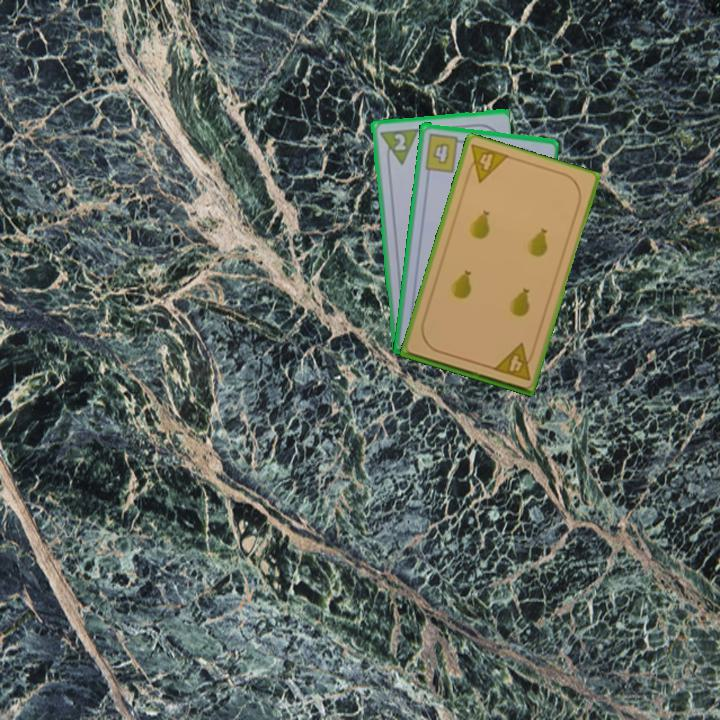2p: (390, 129, 409, 153)
4b: (421, 129, 467, 174)
4p: (461, 141, 511, 186), (489, 340, 538, 383)
